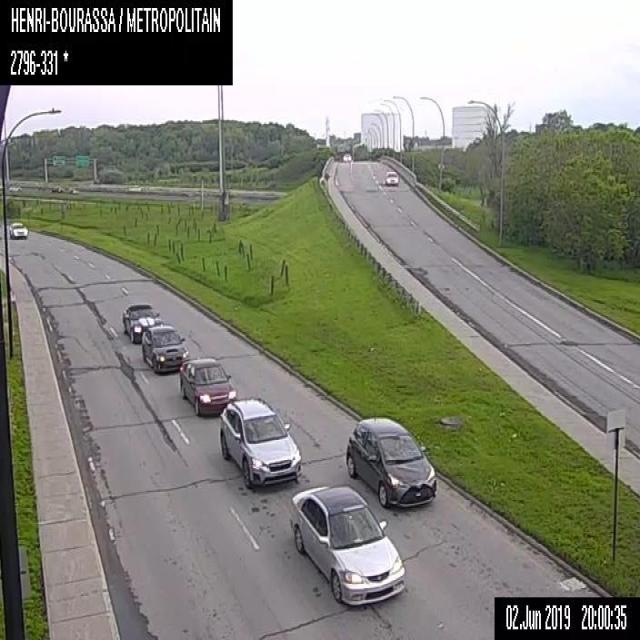vehicle: (289, 483, 406, 604), (345, 415, 435, 506), (220, 397, 302, 488), (179, 357, 235, 416), (141, 324, 188, 373), (122, 303, 163, 343), (8, 221, 27, 237), (384, 170, 398, 186), (342, 152, 351, 161)
